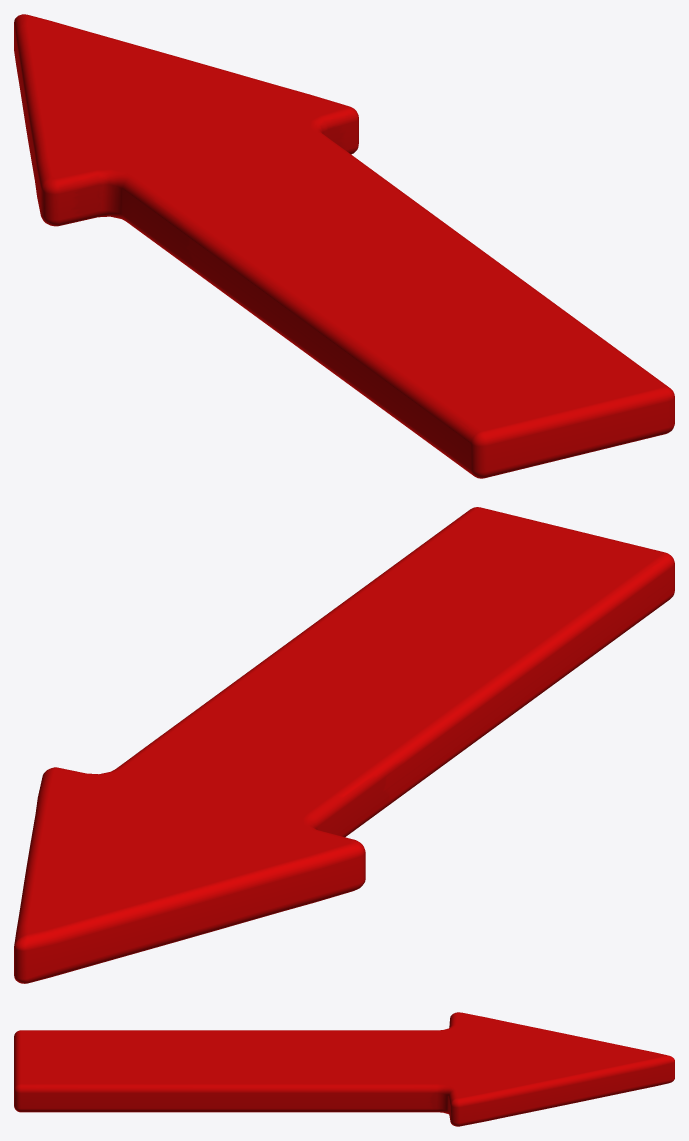
The model's file is arrowStraight.fbx.
3 renders of one model, top to bottom at view 1: azimuth 30°, elevation 25°; view 2: azimuth 150°, elevation 25°; view 3: azimuth 270°, elevation 25°, orthographic. The views are drawn at different scales.
Visible parts, largest first — view 1: node_id5; view 2: node_id5; view 3: node_id5.
Boxes of the visible parts, bbox=[...] form: node_id5: bbox=[14, 14, 674, 478]; node_id5: bbox=[14, 507, 674, 983]; node_id5: bbox=[14, 1012, 674, 1126].
Size of the model in its own units: 0.512 by 0.0721 by 1.56.
1 material, 1 textured.
